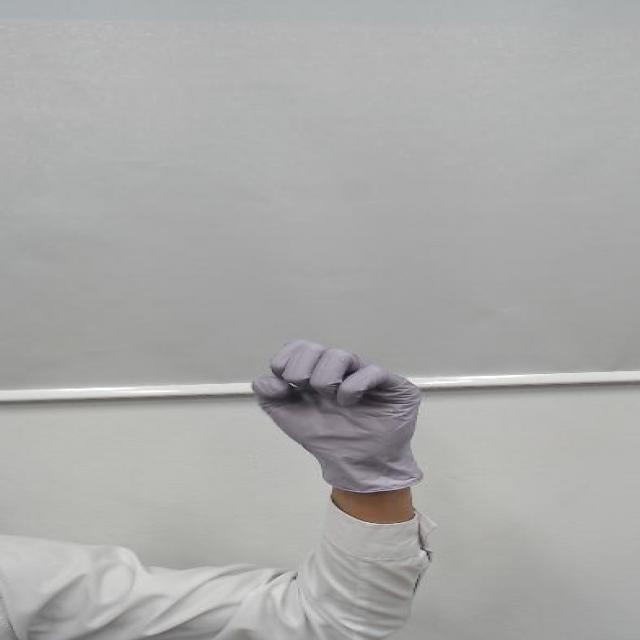with_gloves: (233, 322, 434, 442)
